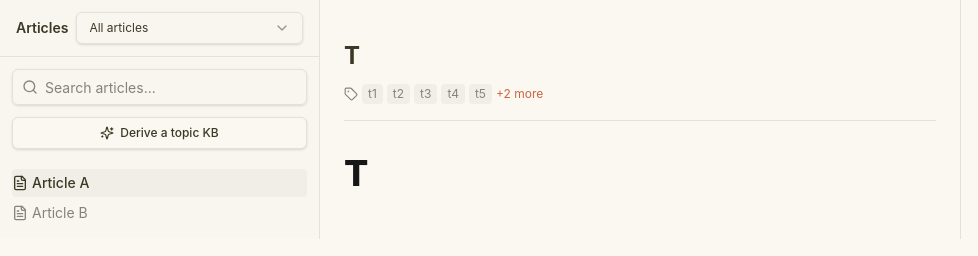
Wiki page › collapses a long tag list behind a toggle
Expected: the text "t5" is shown, [469,84,492,104]
Expected: the text "t6" is not shown
What coordinates should you click on to do the following:
click the button "+2 more"
I would click on:
 (520, 94)
Its box is [496,86,543,102].
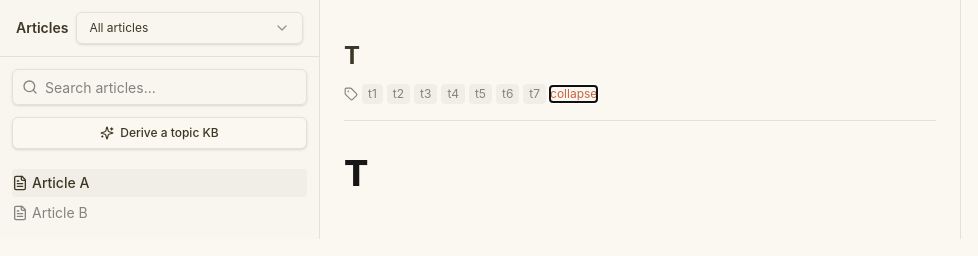
Expected: the text "t7" is shown, [523,84,546,104]
What coordinates should you click on to do the following:
click the button "collapse"
I would click on:
 (574, 94)
Its box is [550,86,597,102].
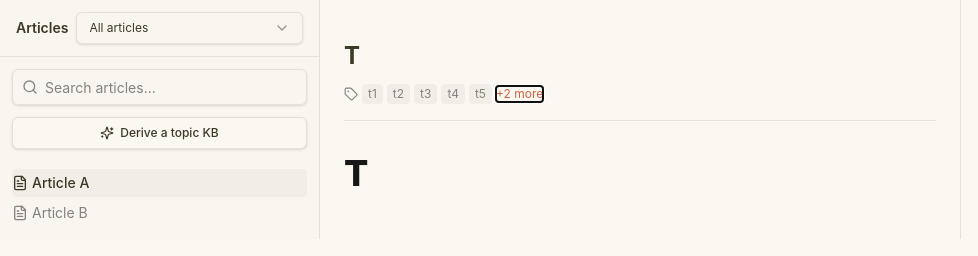
Expected: the text "t7" is gone
